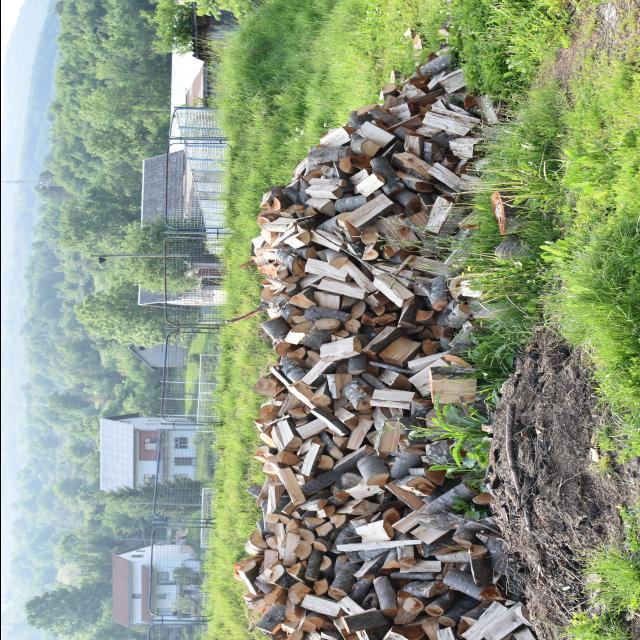restos de madeira: (457, 599, 528, 640), (426, 480, 482, 516), (418, 106, 481, 138), (373, 215, 417, 253), (256, 250, 294, 292), (344, 195, 392, 228), (390, 499, 434, 534), (405, 362, 450, 396), (300, 592, 350, 622), (444, 322, 480, 362), (298, 354, 342, 386), (435, 596, 479, 628), (422, 438, 464, 471), (370, 272, 410, 306), (489, 194, 523, 234), (426, 161, 468, 193), (333, 538, 428, 552), (424, 198, 459, 234), (356, 120, 400, 148), (231, 294, 272, 324), (404, 408, 446, 437), (314, 278, 369, 300), (467, 544, 493, 590), (362, 324, 403, 353), (384, 482, 426, 510), (400, 254, 453, 276), (302, 257, 350, 281), (286, 381, 322, 413), (276, 466, 306, 504), (372, 576, 398, 618), (254, 602, 288, 634), (387, 451, 423, 481), (446, 238, 476, 274), (352, 550, 389, 579), (451, 520, 495, 544), (432, 66, 468, 95), (398, 580, 450, 600), (319, 336, 362, 360), (356, 456, 390, 486), (368, 388, 415, 409), (332, 520, 359, 556), (327, 568, 357, 600), (503, 428, 519, 488), (258, 315, 292, 343), (300, 324, 336, 350), (341, 379, 372, 409), (332, 447, 369, 472), (361, 253, 398, 278), (375, 103, 413, 127), (406, 351, 451, 371), (418, 51, 452, 77), (476, 92, 502, 126), (310, 228, 346, 252), (304, 306, 352, 324), (428, 273, 452, 309), (298, 442, 322, 477), (354, 303, 394, 324), (236, 562, 262, 594), (448, 137, 484, 159), (374, 424, 402, 452), (250, 374, 284, 397), (442, 303, 472, 329), (317, 126, 352, 148), (391, 188, 423, 212), (354, 173, 386, 197), (306, 146, 348, 164), (344, 424, 372, 451), (302, 548, 324, 582), (274, 248, 302, 274), (278, 358, 307, 383), (496, 238, 526, 262), (406, 305, 436, 329), (336, 595, 368, 617), (342, 498, 380, 516), (332, 616, 363, 638), (440, 100, 477, 118), (428, 130, 458, 152), (256, 401, 282, 426), (284, 530, 302, 566), (397, 558, 443, 572), (382, 625, 424, 640), (303, 184, 341, 200), (296, 422, 330, 439), (288, 581, 312, 605), (403, 133, 425, 159), (296, 497, 332, 512), (396, 438, 426, 456), (274, 420, 296, 444), (282, 182, 304, 206), (394, 544, 416, 568), (304, 197, 336, 213), (397, 83, 425, 101), (300, 615, 328, 633), (233, 556, 261, 574), (422, 138, 441, 164), (266, 482, 282, 512), (280, 302, 304, 322), (347, 110, 371, 130), (292, 156, 312, 180), (283, 230, 309, 248), (288, 292, 315, 308), (260, 498, 274, 528), (255, 208, 278, 226), (296, 528, 316, 548), (276, 450, 300, 466), (262, 548, 278, 572), (432, 554, 470, 564), (442, 149, 460, 169), (504, 408, 516, 438), (244, 539, 264, 556), (306, 178, 338, 188), (314, 521, 334, 537), (274, 522, 286, 548), (258, 430, 276, 447), (258, 190, 274, 208), (258, 229, 276, 245), (328, 513, 346, 529), (355, 104, 378, 115), (244, 485, 262, 499), (381, 84, 396, 95), (402, 28, 414, 40), (436, 28, 449, 36)
